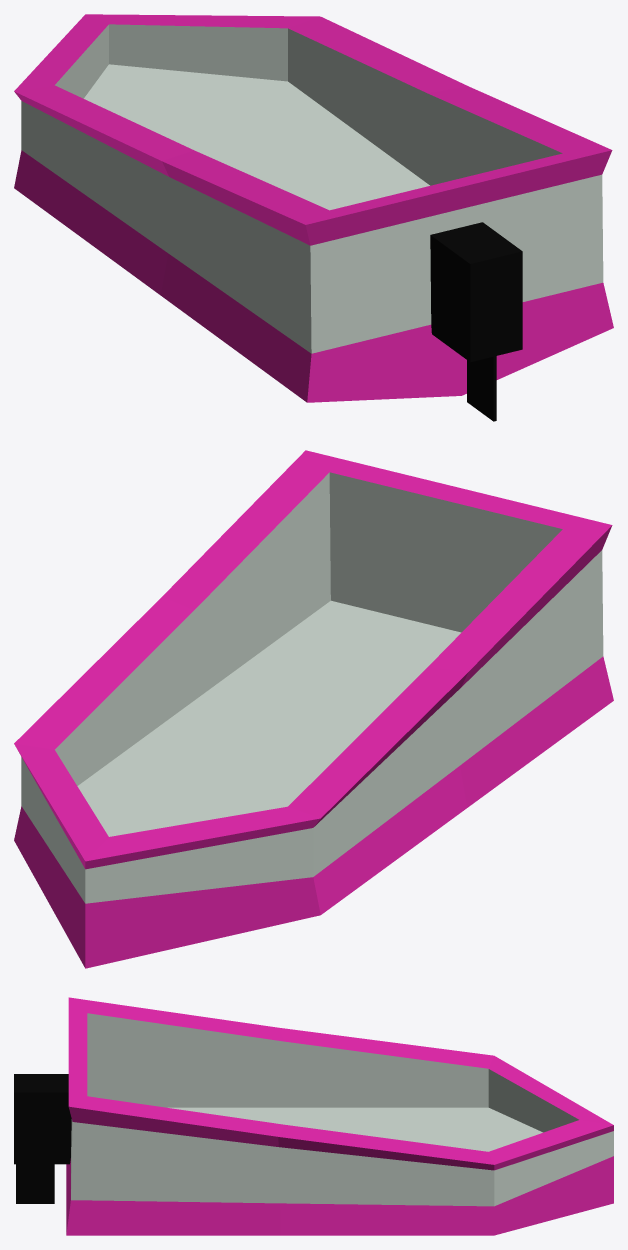
File: boat2.fbx
3 views of the same model, one above another, from view 1: azimuth 30°, elevation 25°; view 2: azimuth 150°, elevation 25°; view 3: azimuth 270°, elevation 25° (orthographic). The views are drawn at different scales.
Visible parts, largest first — view 1: Cube, Cube.001, Cube.002; view 2: Cube; view 3: Cube, Cube.001, Cube.002.
Boxes of the visible parts, <box> form: Cube: <box>14,14,613,402</box>; Cube.001: <box>430,222,522,362</box>; Cube.002: <box>467,356,496,421</box>; Cube: <box>14,450,613,968</box>; Cube: <box>66,997,613,1235</box>; Cube.001: <box>14,1074,71,1164</box>; Cube.002: <box>16,1164,54,1203</box>.
Size of the model in its own units: 654 by 423 by 1518.
